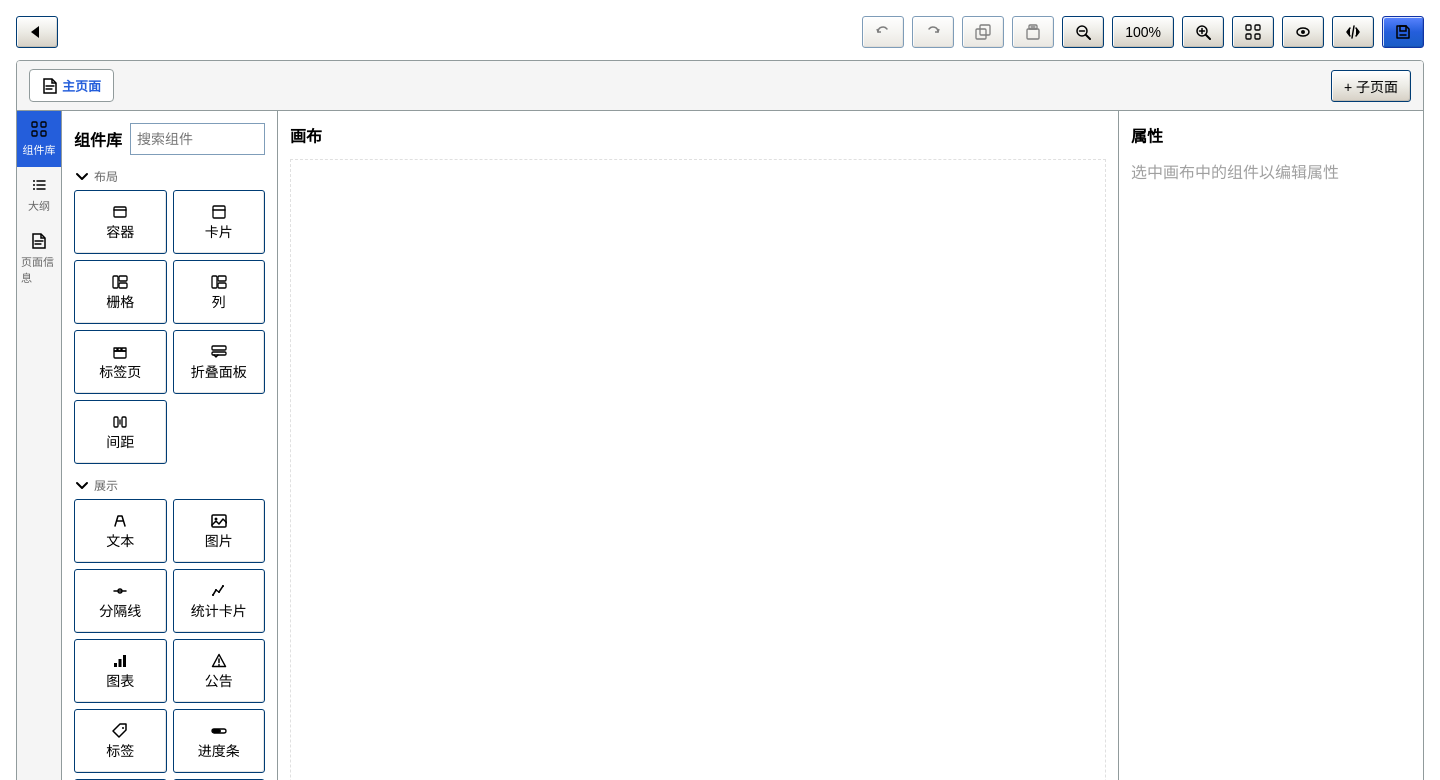
Test: WPageDesigner › 点击页面信息按钮应切换到页面信息面板
The width and height of the screenshot is (1440, 780).
Click the button with class "sidebar-btn" showing "页面信息".
click(38, 258)  # box [21,233,54,284]
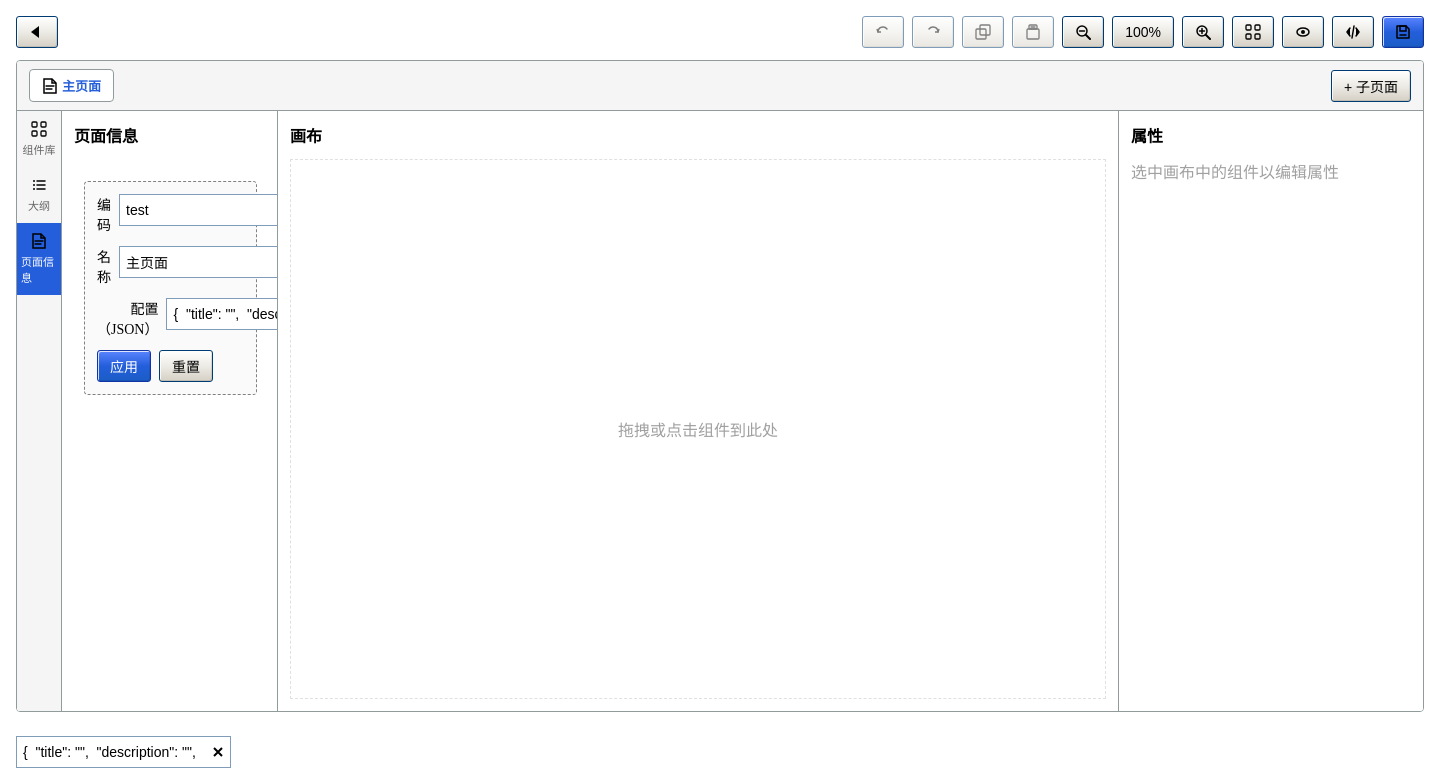
Expected: the element showing "页面信息 编码 名称 配置（JSON） 应用 重置" is shown, [62,111,277,415]
